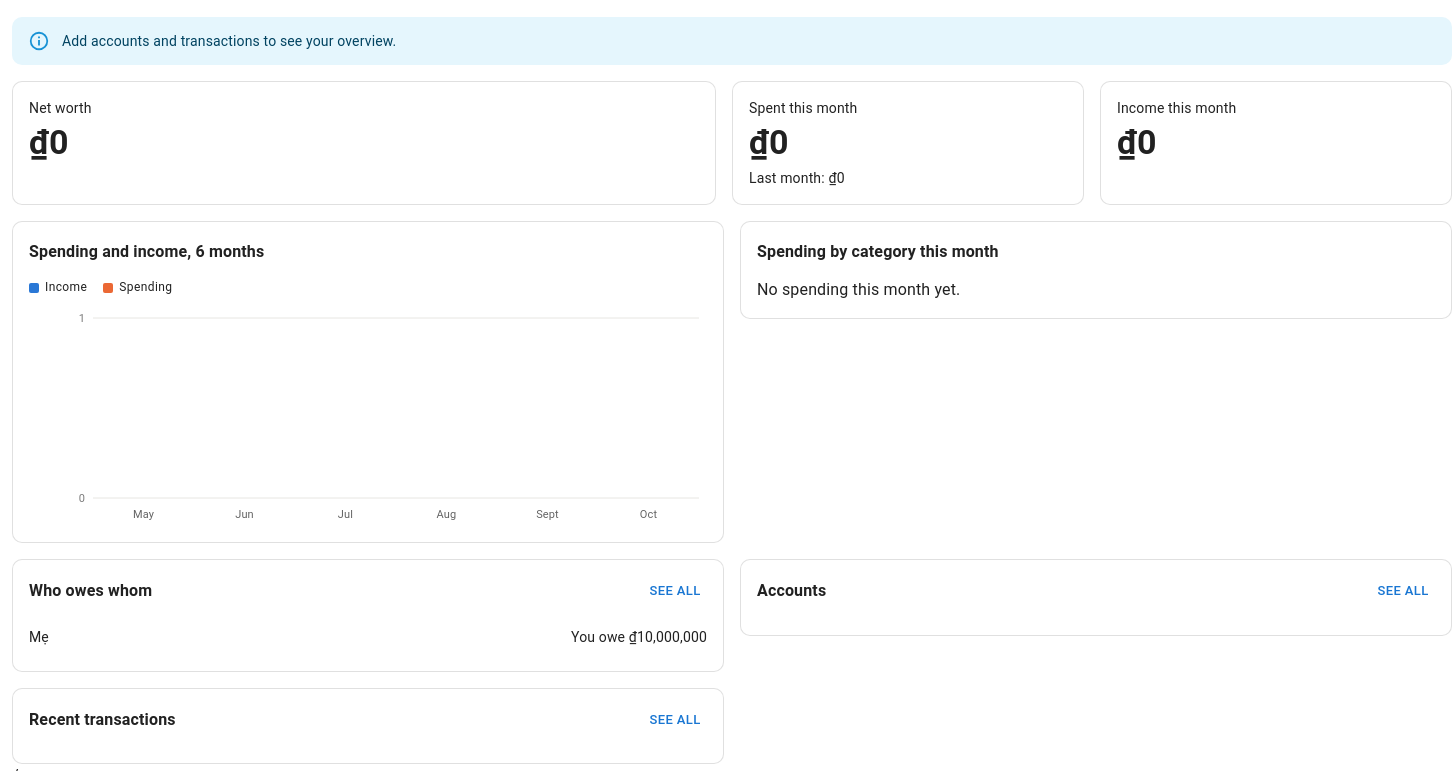
Test: Overview › opens People from who owes whom (waterflow#68)
The width and height of the screenshot is (1452, 771).
Click the link "See all" in the row of "Who owes whom" at (675, 590), box [649,583,700,598]
(page scrolled)
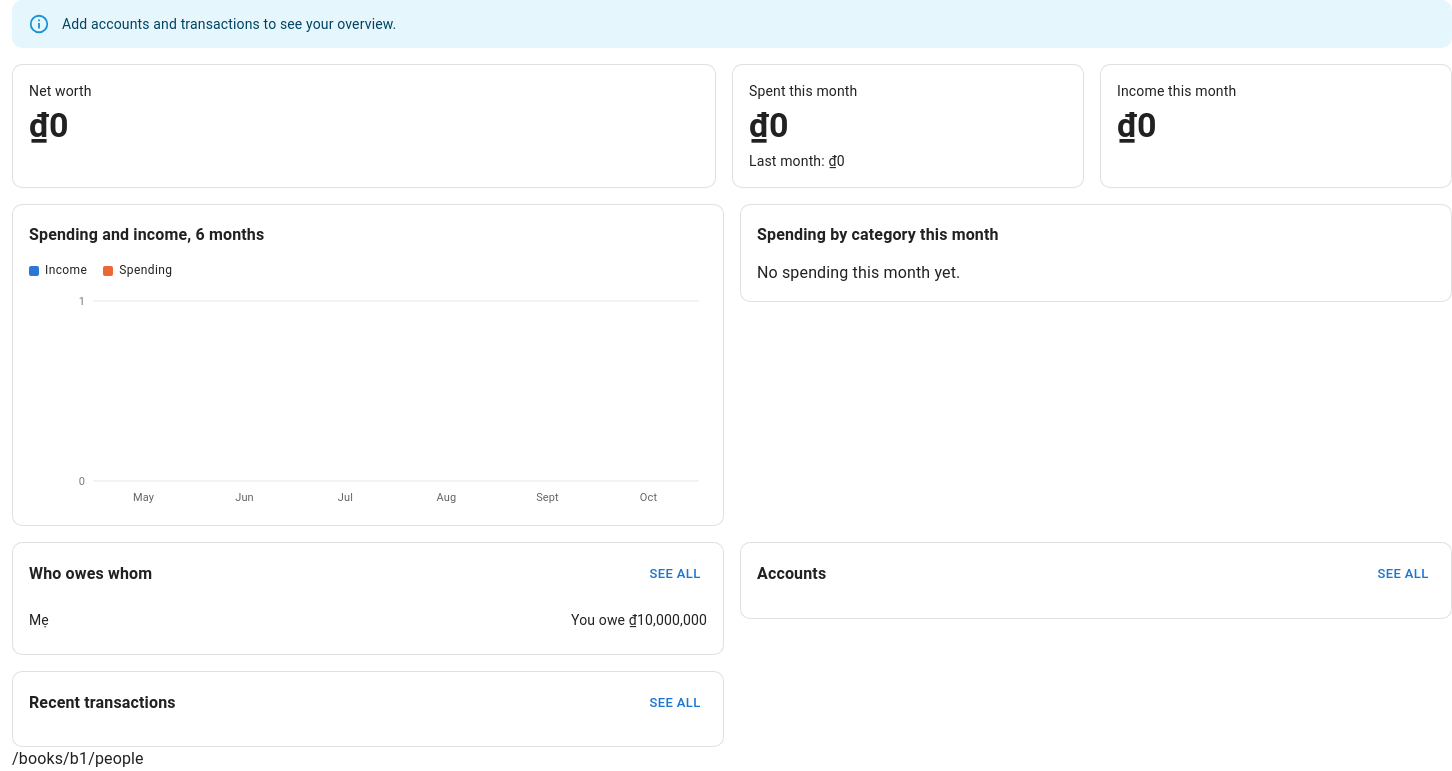
Result: the text with test id "where" reads "/books/b1/people" at [12,750,144,768]
